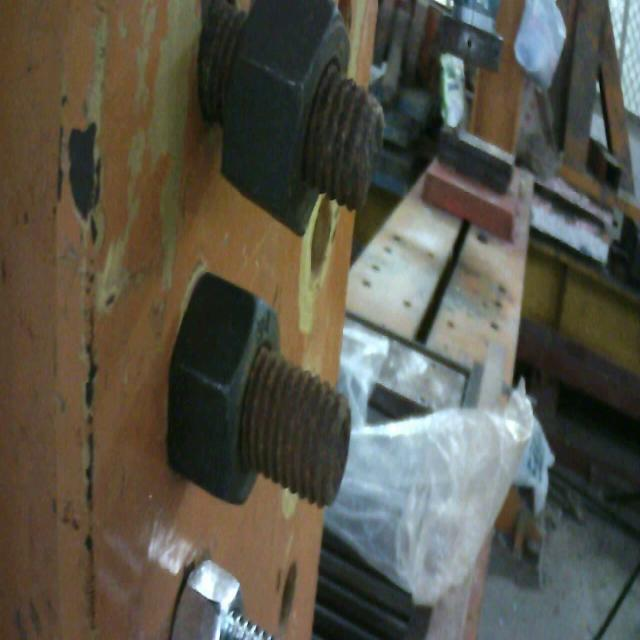Loose bolt: (208, 1, 393, 235)
Missing bolt: (312, 195, 334, 277), (280, 559, 298, 625)
Regular bolt: (171, 559, 279, 640)
Rusty bolt: (168, 272, 352, 517), (199, 8, 396, 234)
